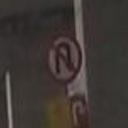NoVirarU: (46, 35, 82, 84)
